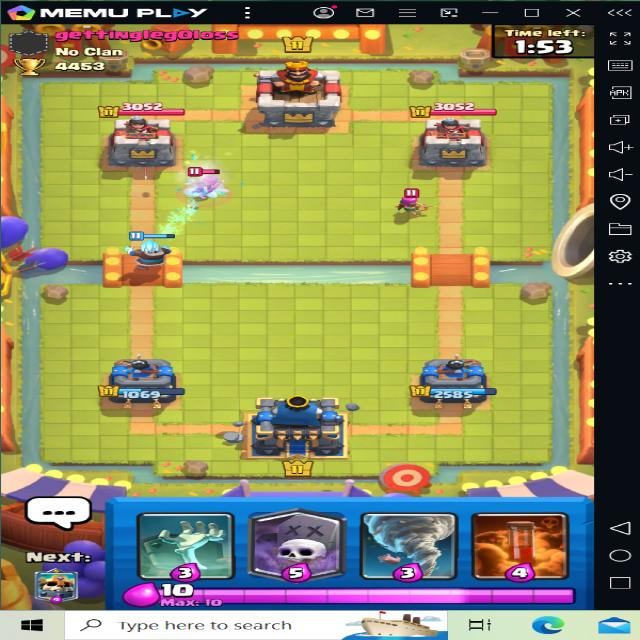Archer: (180, 167, 224, 199), (384, 185, 427, 216)
